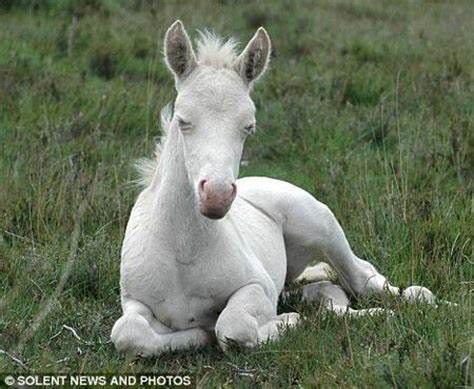horse: (103, 15, 450, 364)
